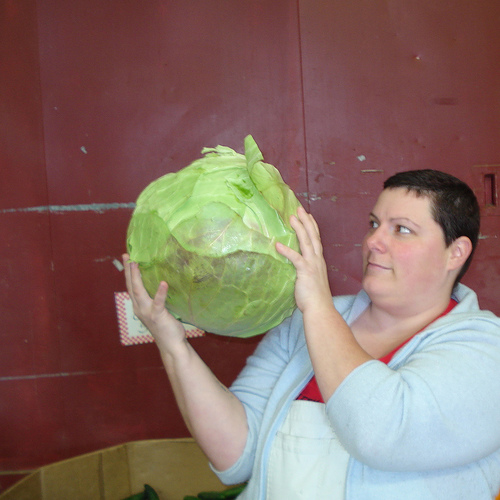cabbage: (123, 132, 305, 338)
